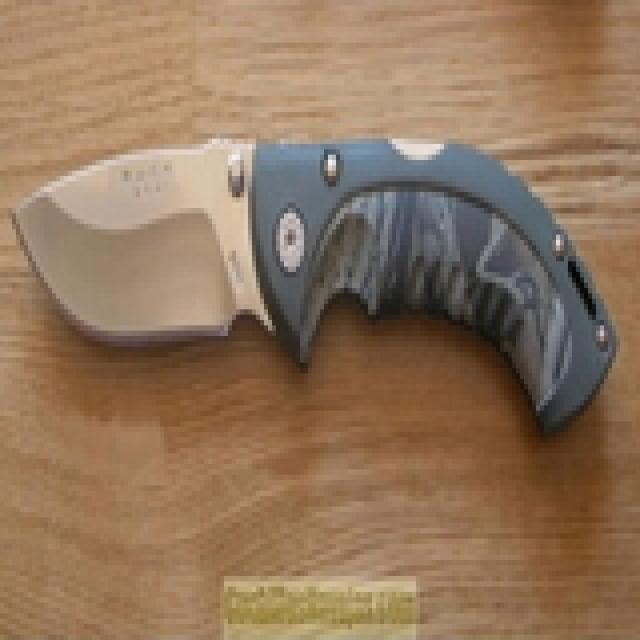Knife: (1, 114, 628, 452)
